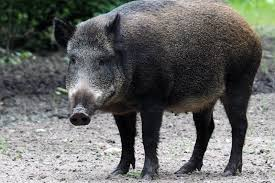boar: (54, 0, 262, 178)
